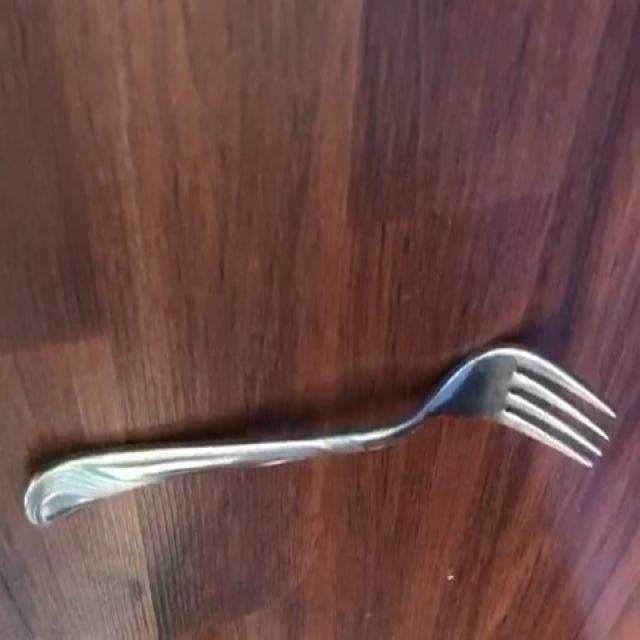spoon: (25, 347, 615, 526)
